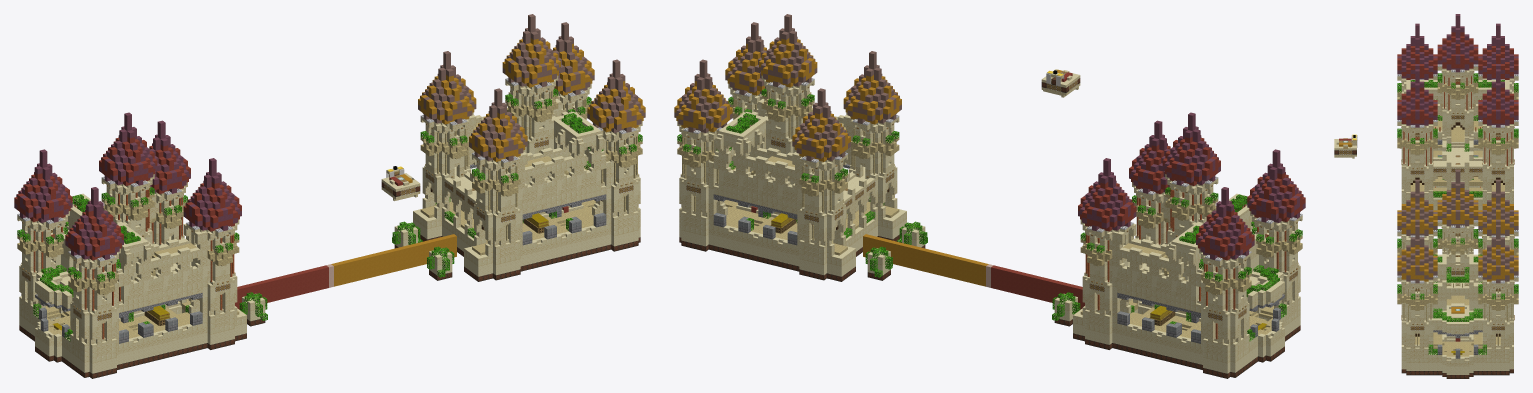
File: minecraft.obj
3 renders of one model, left to right at view 1: azimuth 30°, elevation 25°; view 2: azimuth 150°, elevation 25°; view 3: azimuth 270°, elevation 25°, orthographic. The views are drawn at different scales.
Size of the model in its own units: 117 by 43 by 41.
